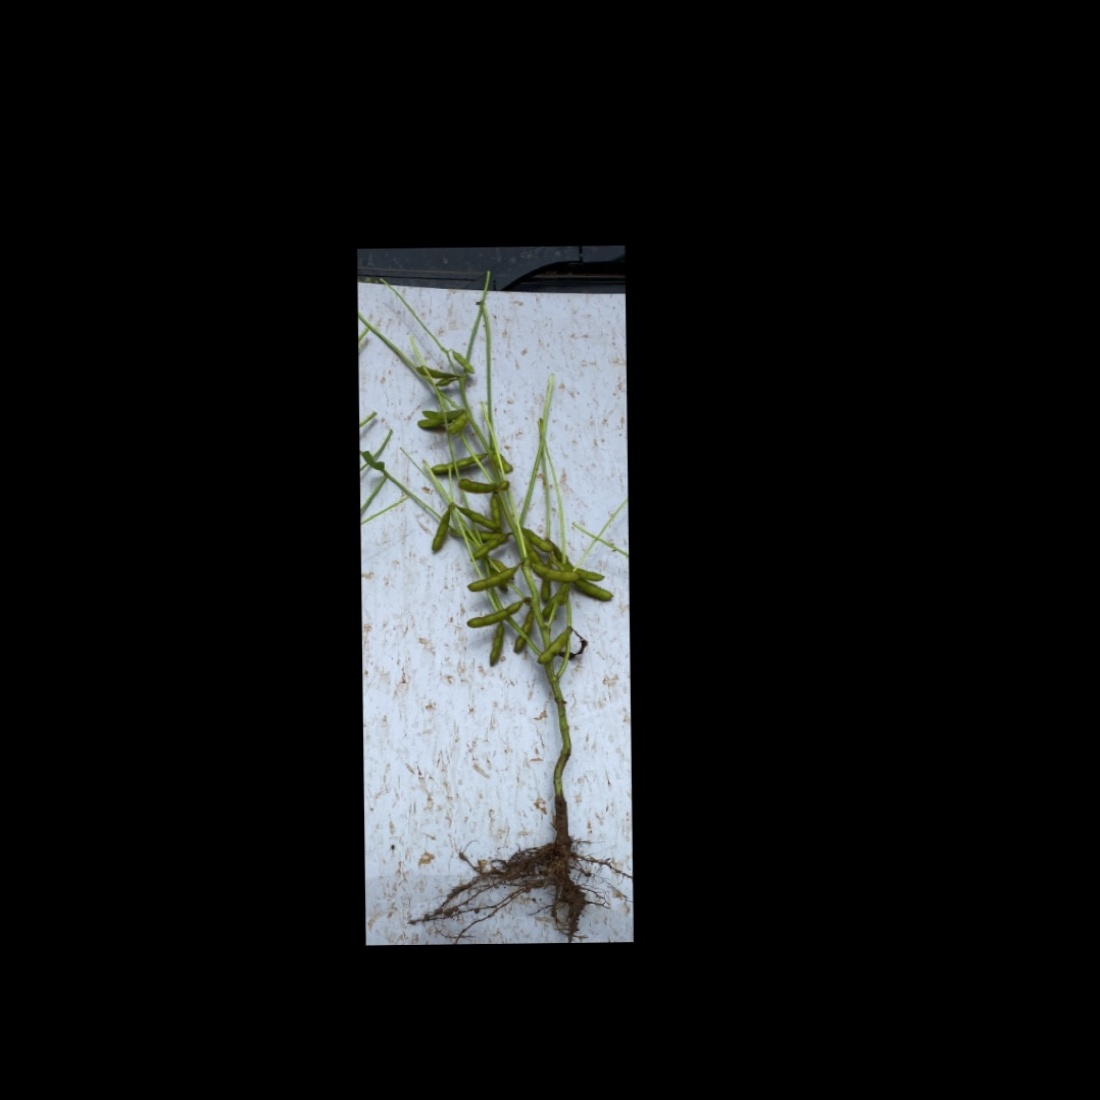pod: (465, 600, 520, 630), (535, 630, 572, 667), (430, 449, 485, 473), (467, 568, 515, 594), (452, 503, 495, 530), (525, 563, 577, 582), (485, 623, 505, 670), (513, 612, 533, 656), (519, 527, 552, 552), (429, 513, 450, 552), (454, 475, 496, 495), (576, 579, 613, 600), (451, 347, 476, 375), (521, 538, 542, 566), (490, 493, 503, 529), (538, 579, 554, 602)
soy: (388, 301, 618, 927)
